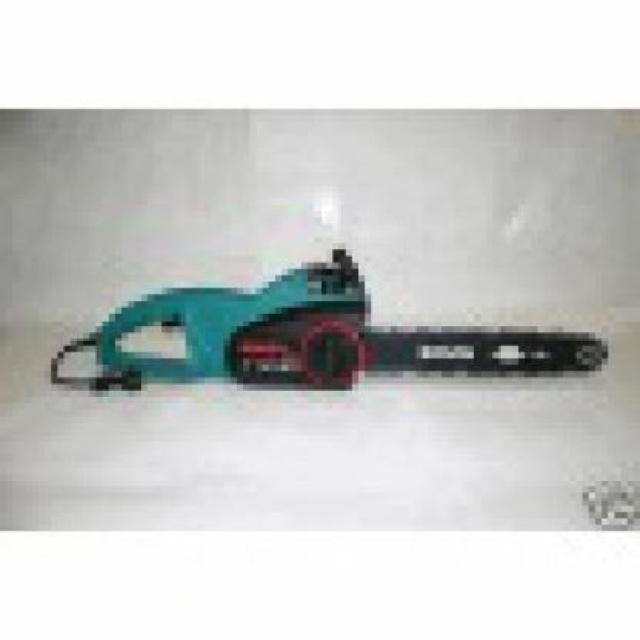Chainsaw: (48, 245, 610, 397)
